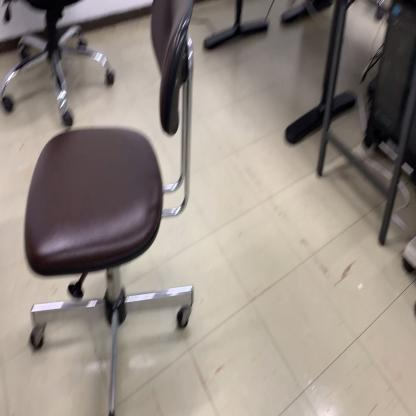chair: (27, 0, 199, 416)
